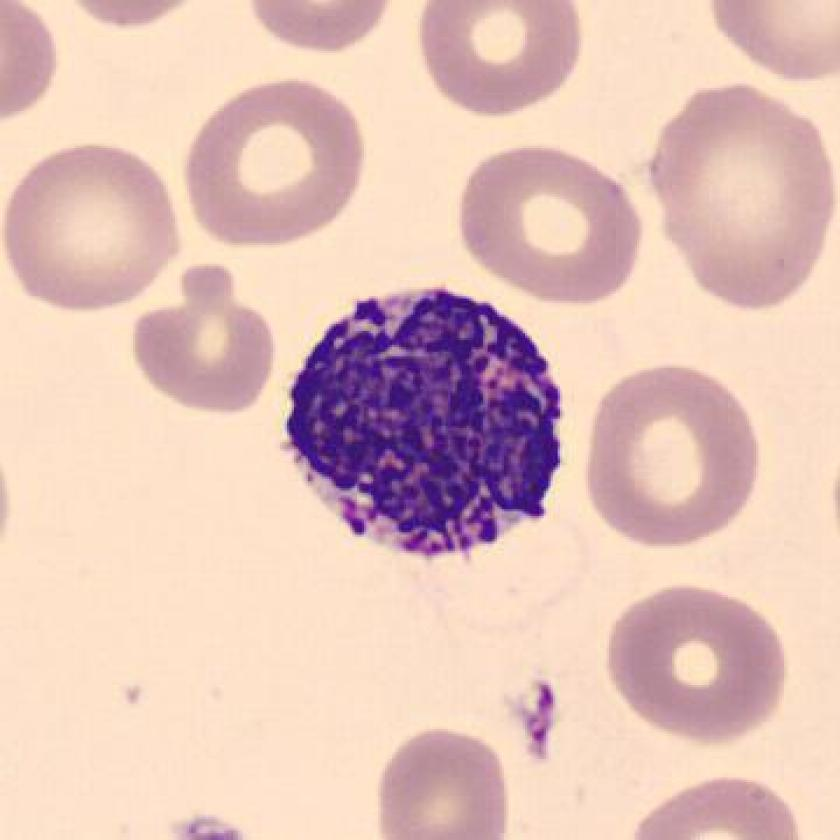basophil: (265, 279, 580, 570)
